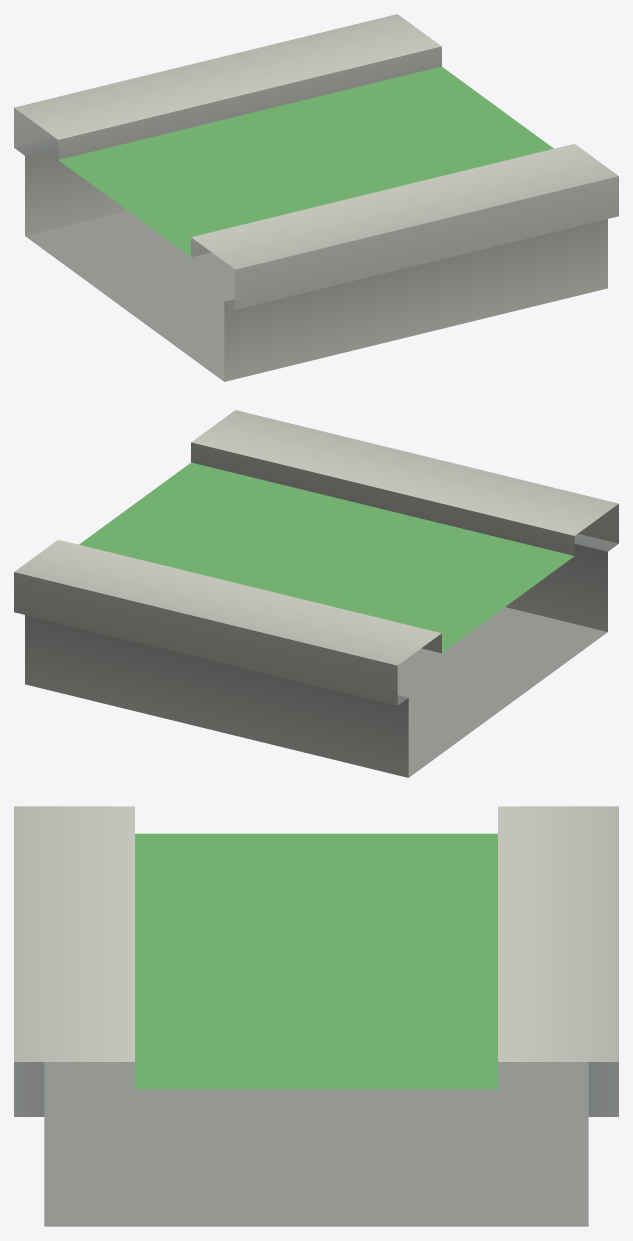
The model's file is Planter_Straight_Medium_01.fbx.
The picture shows the model from 3 angles, top to bottom: view 1: azimuth 30°, elevation 25°; view 2: azimuth 150°, elevation 25°; view 3: azimuth 270°, elevation 25°; orthographic projection. The views are drawn at different scales.
Parts seen in each view (by area): view 1: Planter_Straight_Medium_01; view 2: Planter_Straight_Medium_01; view 3: Planter_Straight_Medium_01.
Part boxes in pixels (x1,y1,x2,y2): Planter_Straight_Medium_01: (14,14,618,381); Planter_Straight_Medium_01: (14,410,618,777); Planter_Straight_Medium_01: (14,806,618,1226).
Bounding box in the file's own units: 200 × 60 × 200.
